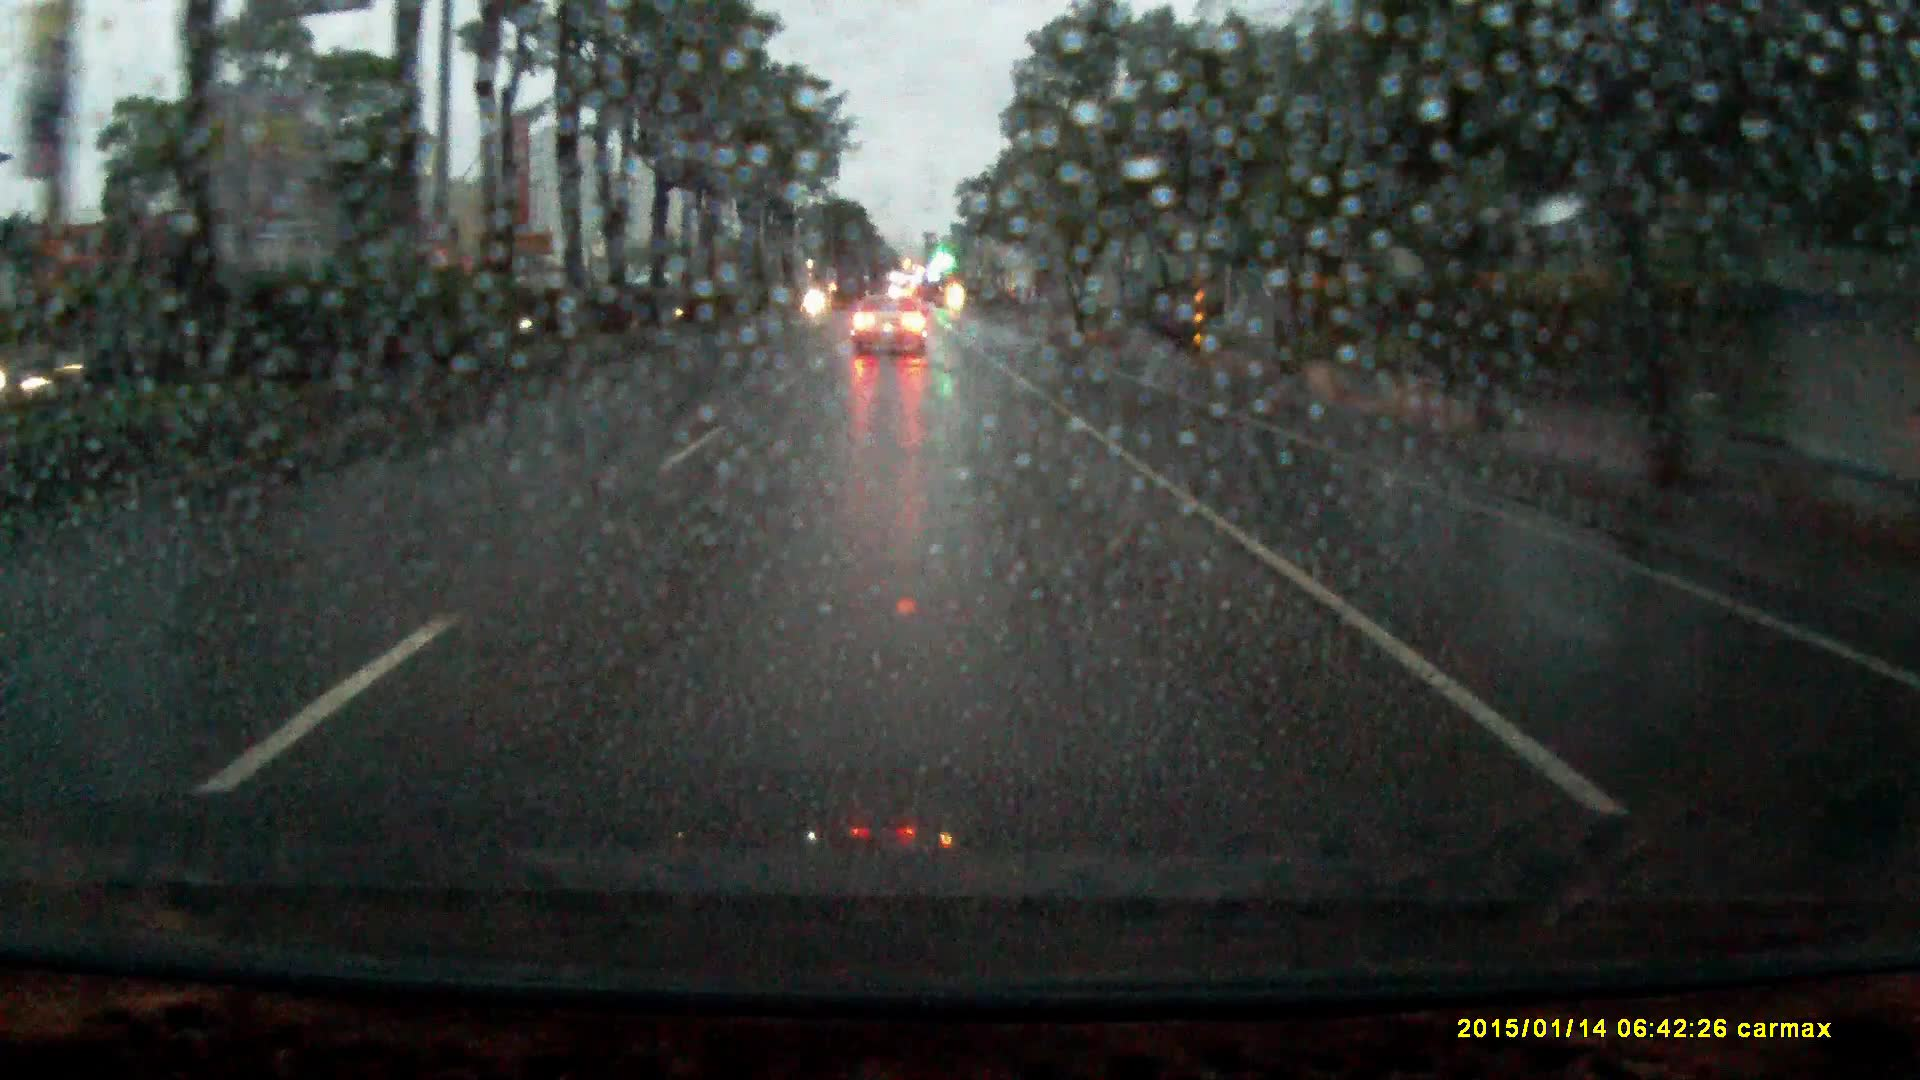vehicle: (849, 289, 931, 357)
